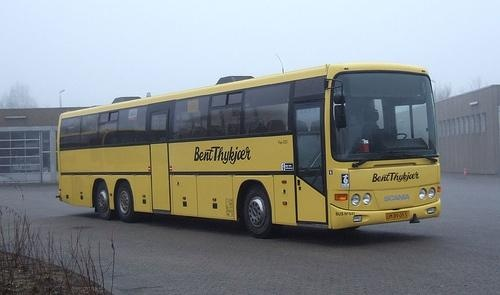bus: (56, 66, 441, 240)
